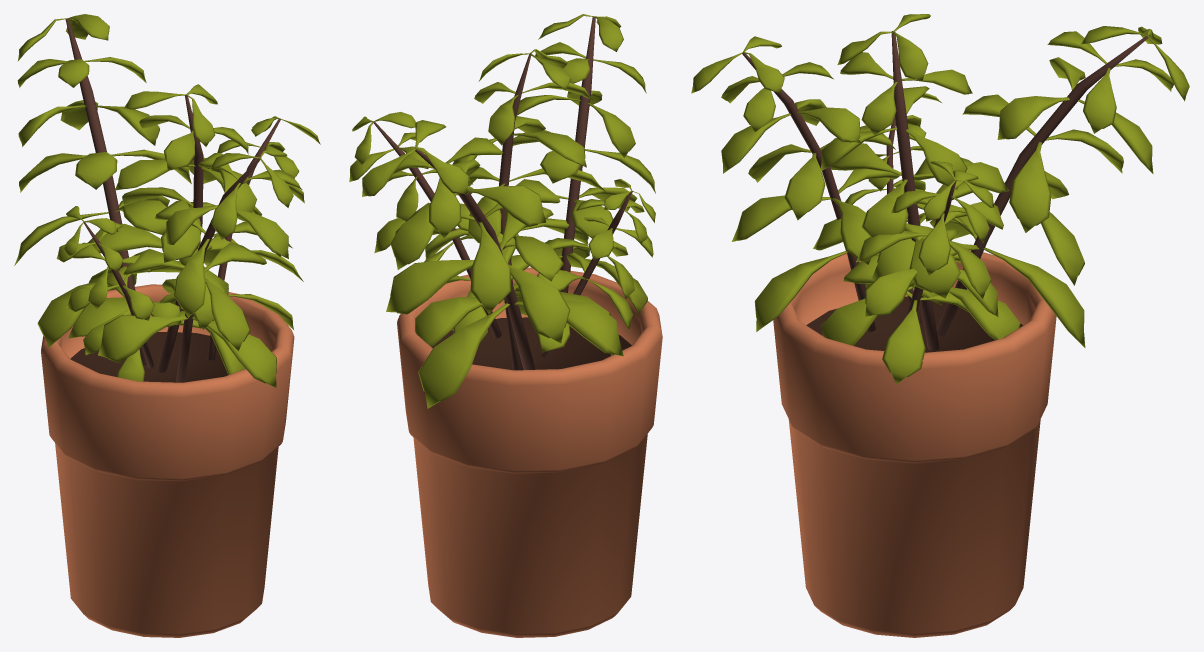
The model's file is plant 2.glb.
The picture shows the model from 3 angles, left to right: view 1: azimuth 30°, elevation 25°; view 2: azimuth 150°, elevation 25°; view 3: azimuth 270°, elevation 25°; orthographic projection. The views are drawn at different scales.
Parts seen in each view (by area): view 1: Cylinder.002; view 2: Cylinder.002; view 3: Cylinder.002.
Part boxes in pixels (x1=…): Cylinder.002: x1=14, y1=14, x2=320, y2=637; Cylinder.002: x1=349, y1=14, x2=662, y2=637; Cylinder.002: x1=691, y1=14, x2=1189, y2=637.
Size of the model in its own units: 2.55 by 4.69 by 3.66.
